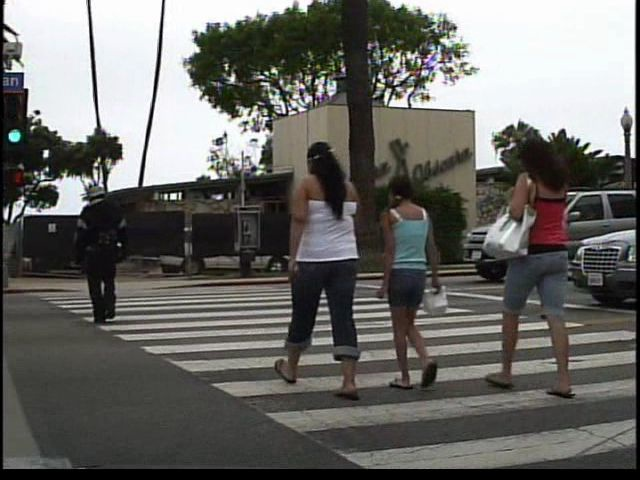person: (277, 130, 382, 403), (495, 136, 588, 407), (374, 171, 448, 399), (65, 182, 131, 333)
